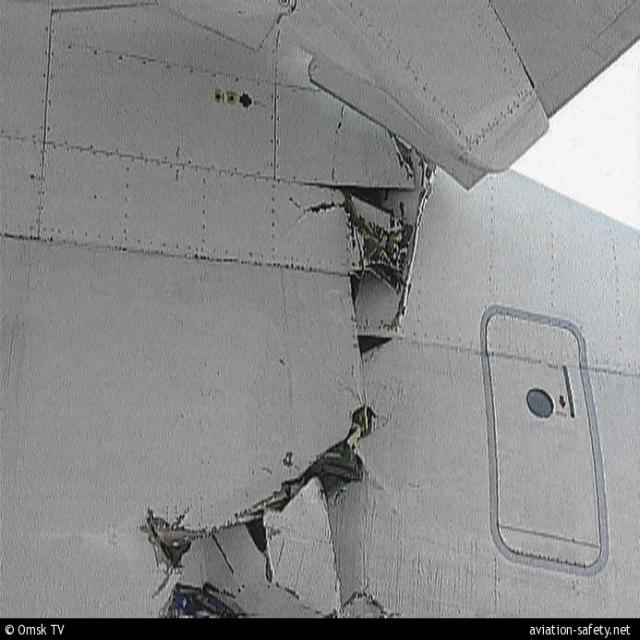crack: (139, 400, 390, 607)
